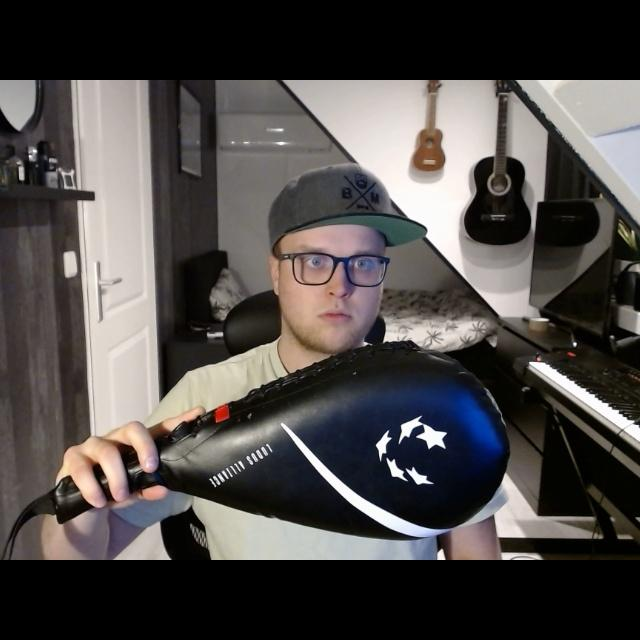paddle: (61, 340, 511, 537)
